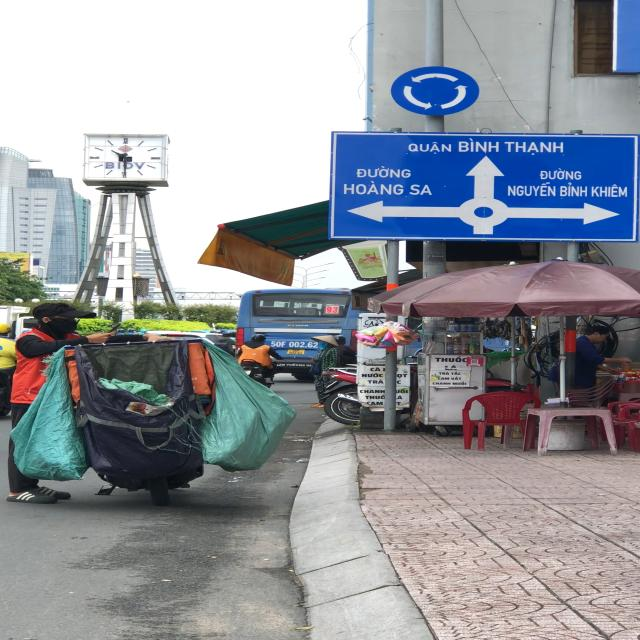Bien bao noi giao nhau chay theo vong xuyen: (382, 64, 488, 118)
